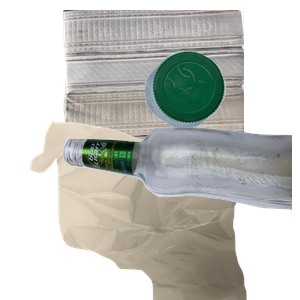glass: (60, 124, 300, 300)
paper: (60, 10, 300, 190)
plastic: (142, 48, 300, 169)
trash: (28, 120, 267, 300)
